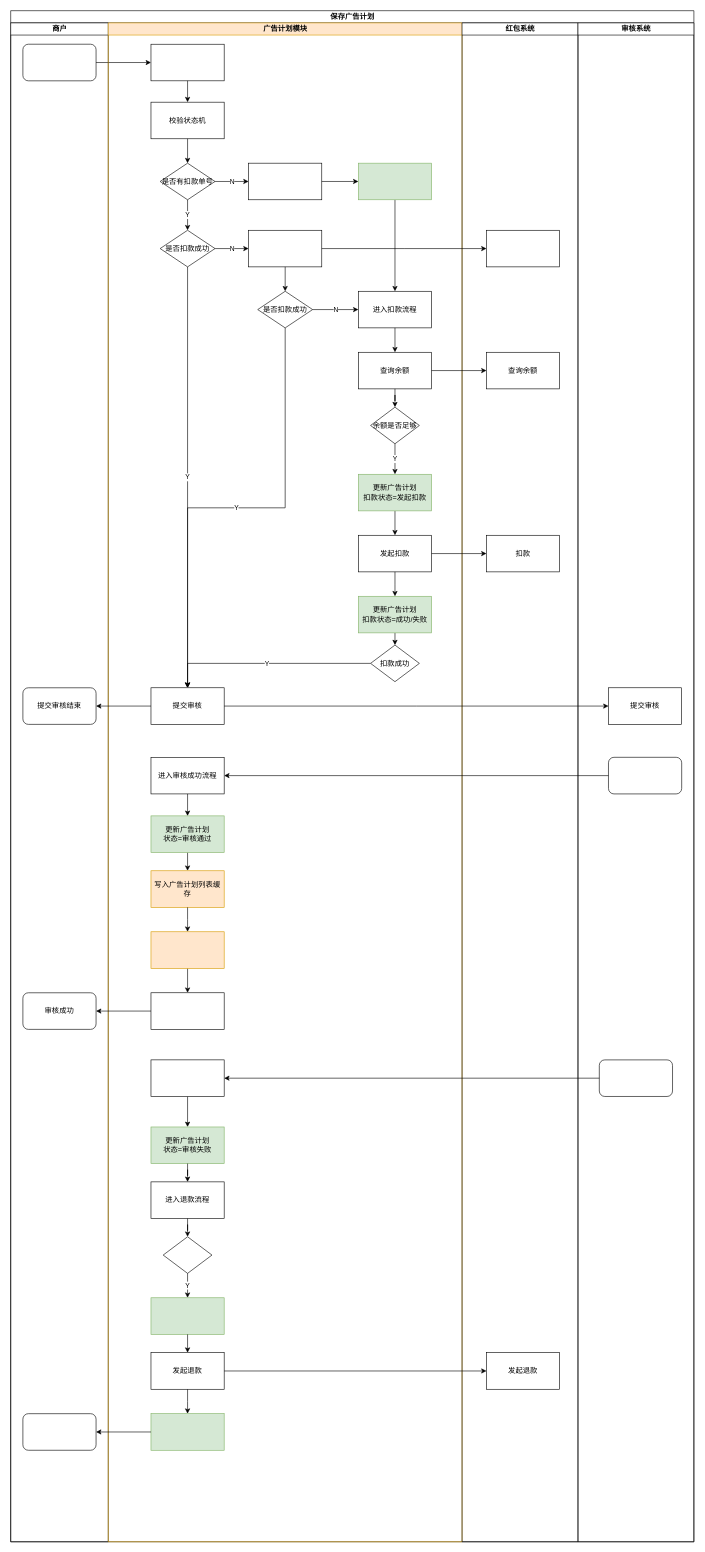
Some shapes in this 705 by 1552 pixel diagram are drawn without their labels. Each missing label, with the centre of its shape:
写入广告计划计数值缓存: (x=187, y=949)
发送广告计划上线MQ: (x=187, y=1010)
回查扣款结果: (x=285, y=248)
审核失败: (x=59, y=1431)
审核失败回调: (x=636, y=1077)
审核成功回调: (x=645, y=775)
广告计划提交审核: (x=59, y=62)
是否已扣款成功: (x=187, y=1254)
更新广告计划 写入扣款单号 扣款状态=发起扣款: (x=395, y=181)
更新广告计划 扣款状态=发起退款: (x=187, y=1315)
更新广告计划 扣款状态=退款结果: (x=187, y=1431)
查询广告计划详情: (x=187, y=62)
根据扣款单查询扣款状态: (x=523, y=248)
生成扣款单号: (x=285, y=181)
进入审核失败流程: (x=187, y=1077)
